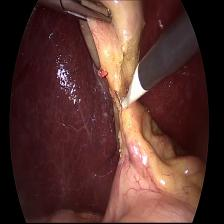Grasper: (41, 0, 117, 25)
Hook: (114, 54, 145, 114)
